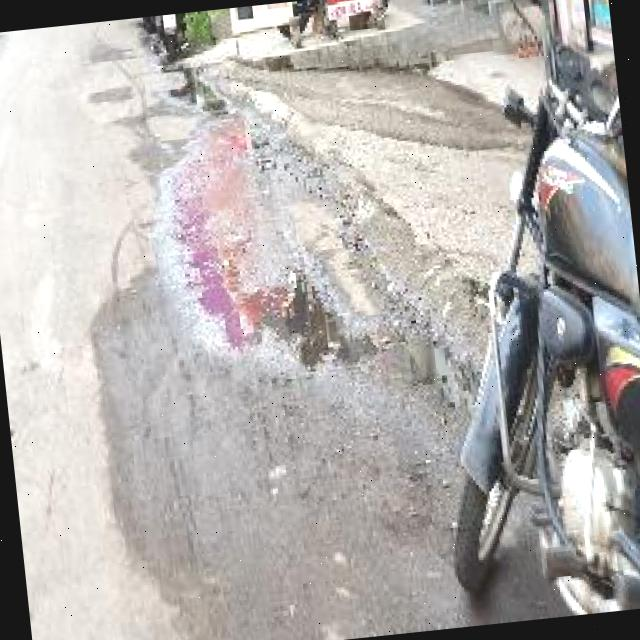waterlogging: (156, 123, 394, 370)
